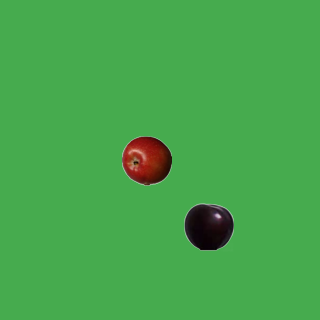Apple Braeburn: (121, 135, 171, 185)
Cherry Wax Black: (183, 201, 233, 251)
